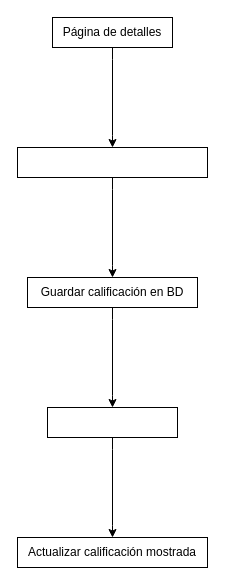
Image size: 225x585. Some labels were removed from this diagram. Here are the shapes that lost their labels. From the top down, the centre of each, then its label:
the point at 112,162: Usuario selecciona calificación
the point at 112,422: Recalcular promedio
